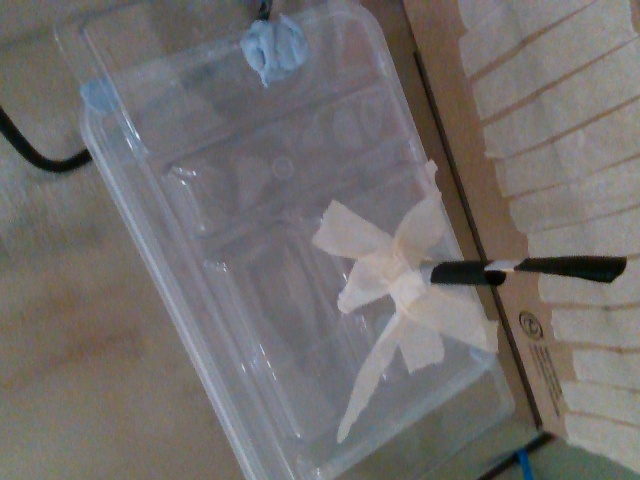test_strip: (483, 252, 628, 283)
